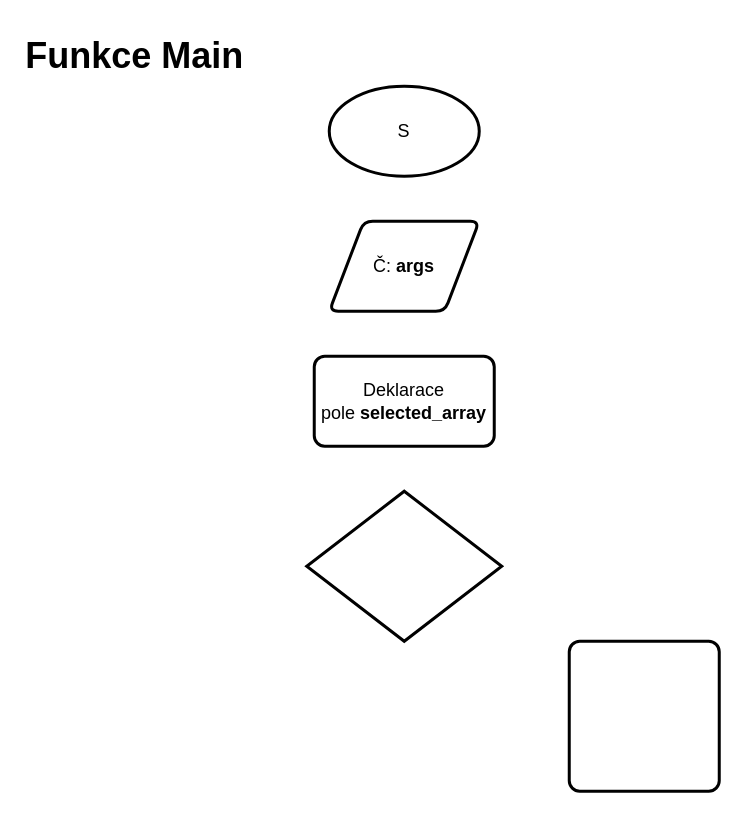
Image size: 747x818. Some labels were removed from this diagram. The shapes that lost their labels are listed below. From the top down, each one's centre as x and y in pixels, then its label:
point 403,565: Je délka pole args větší něž 0?
point 643,715: Do selected_array se uloží vrácená hodnota z funkce Arrays (do parametrů se )
